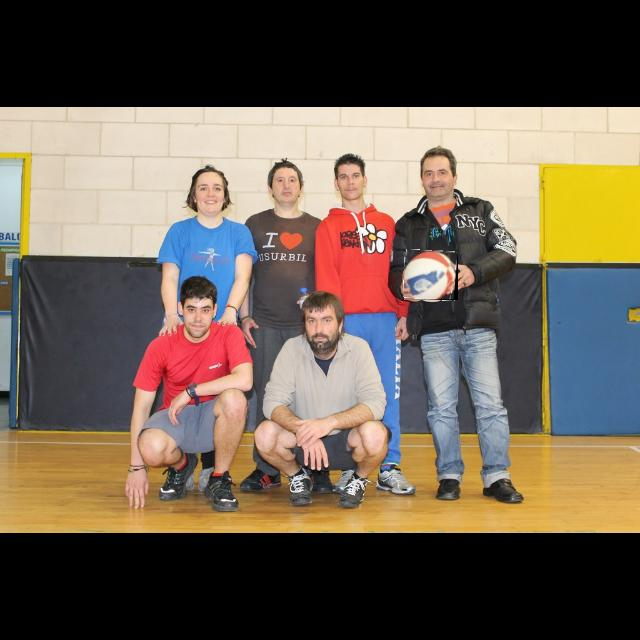Football: (404, 250, 458, 300)
